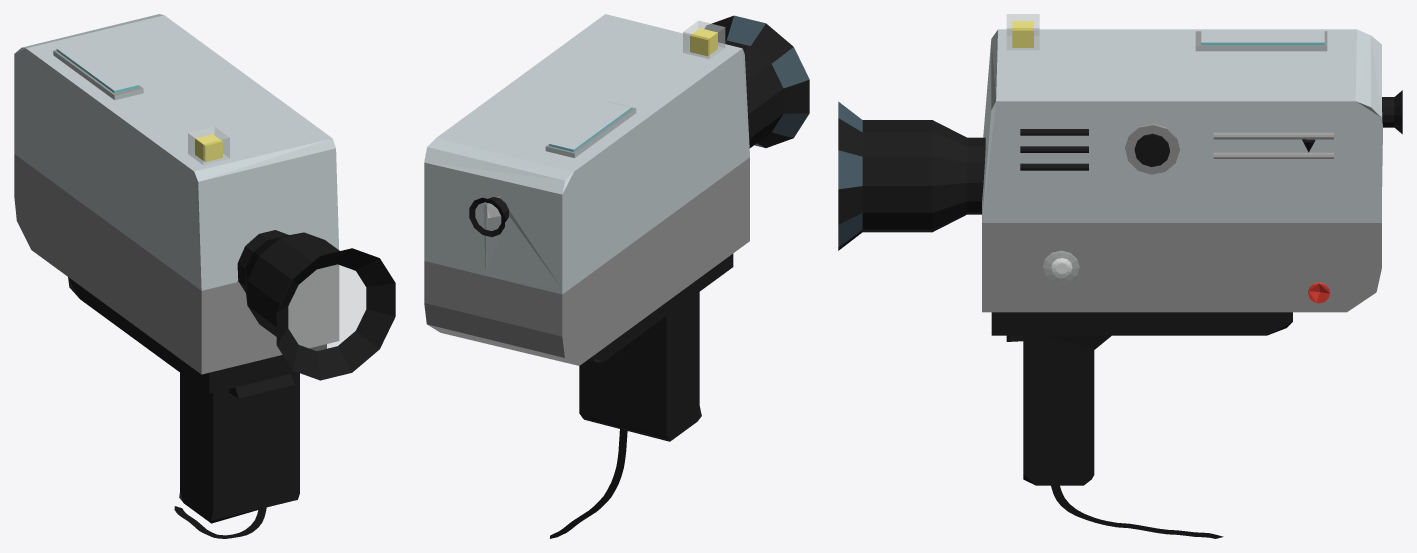
The model's file is Camera.glb.
3 views of the same model, side by side, from view 1: azimuth 30°, elevation 25°; view 2: azimuth 150°, elevation 25°; view 3: azimuth 270°, elevation 25° (orthographic). The views are drawn at different scales.
Visible parts, largest first — view 1: Node; view 2: Node; view 3: Node.
Part boxes in pixels (x1,y1,x2,y2): Node: [14, 14, 395, 538]; Node: [424, 14, 809, 538]; Node: [838, 14, 1402, 538].
Bounding box in the file's own units: 0.6495 × 1.95 × 2.06.
